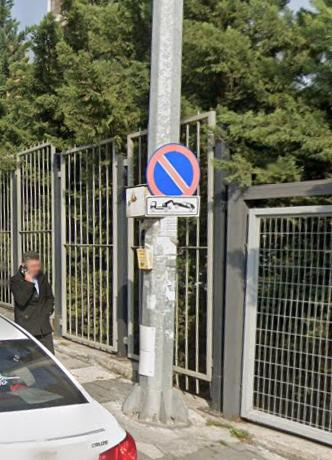nopark: (146, 142, 199, 200)
